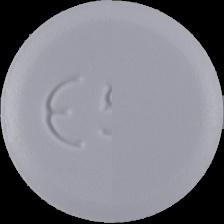42806-057: (0, 0, 224, 224)
